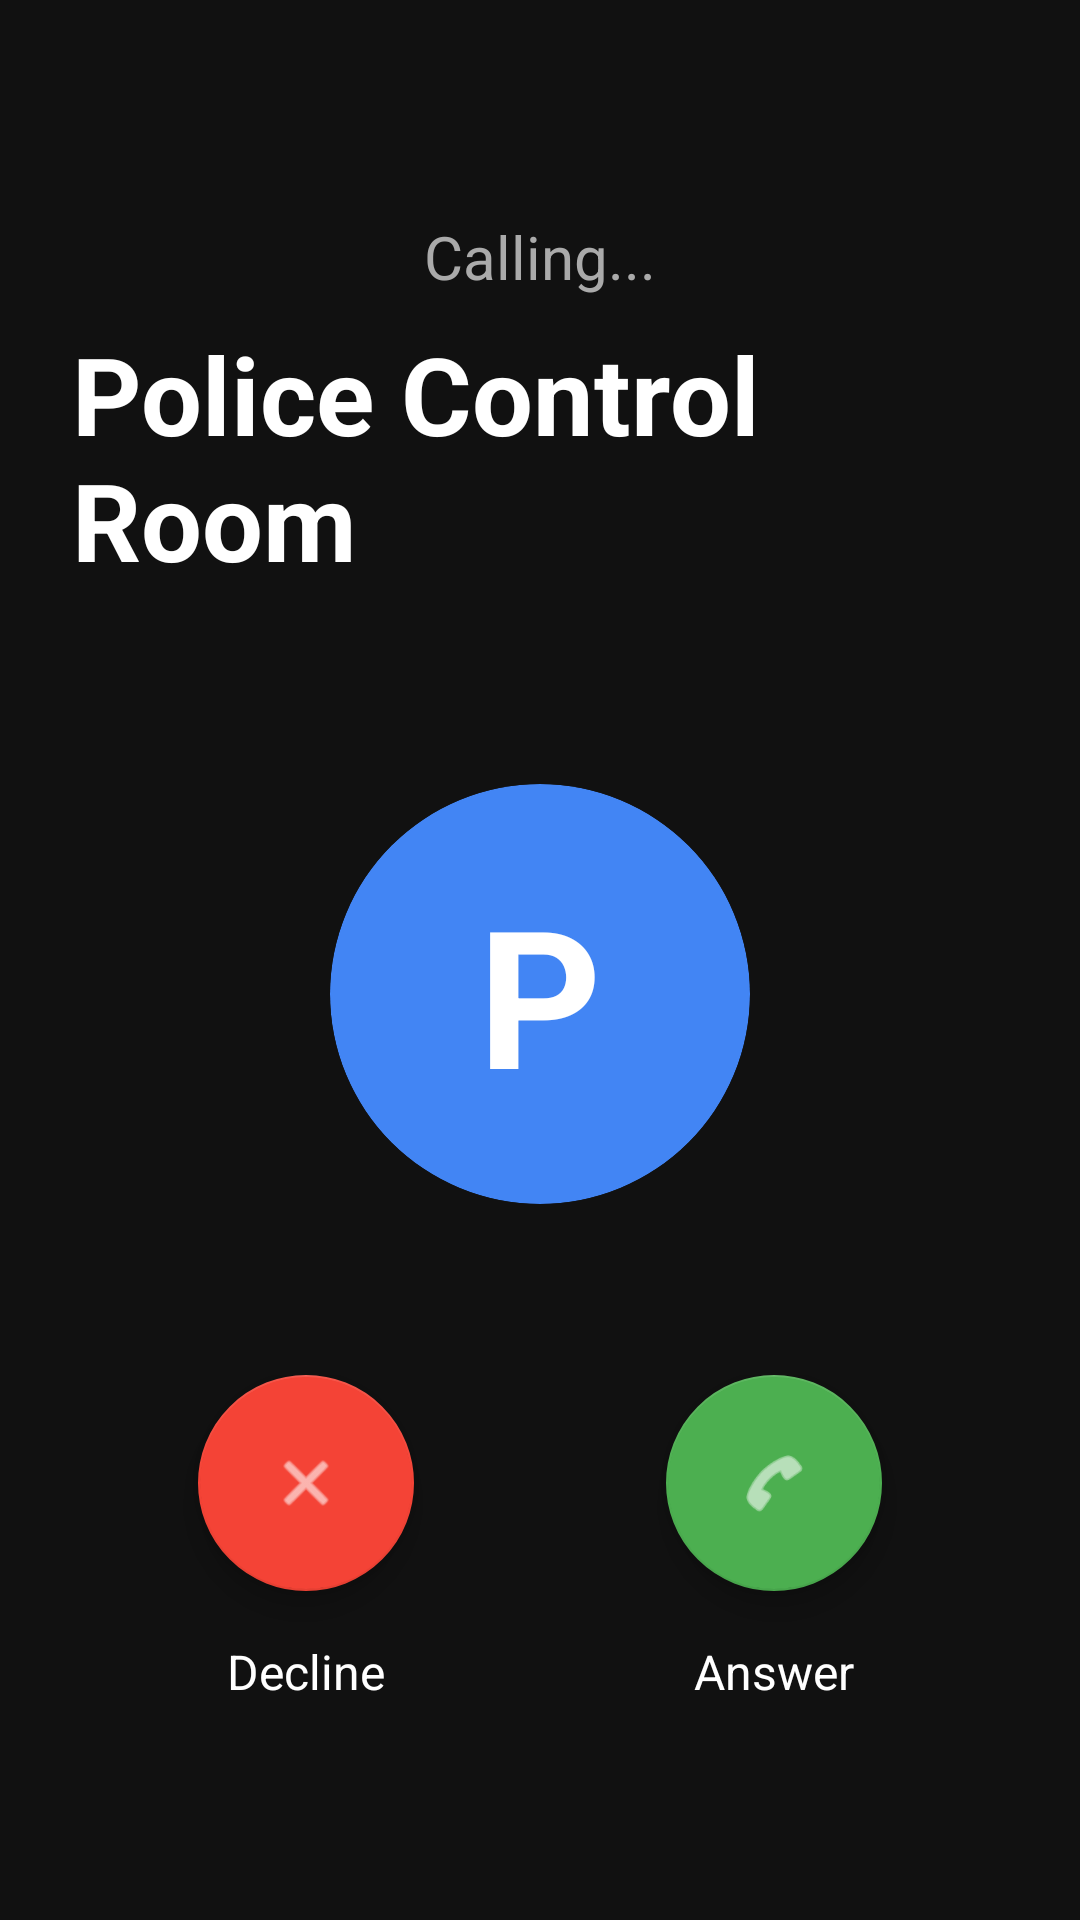

Named icons in this screenshot (1080 x 1920) and their bounding boxes, [left=x1, top=y1, right=x2, bottom=y2]:
call: [left=666, top=1375, right=882, bottom=1591]
close clear cancel: [left=198, top=1375, right=414, bottom=1591]
